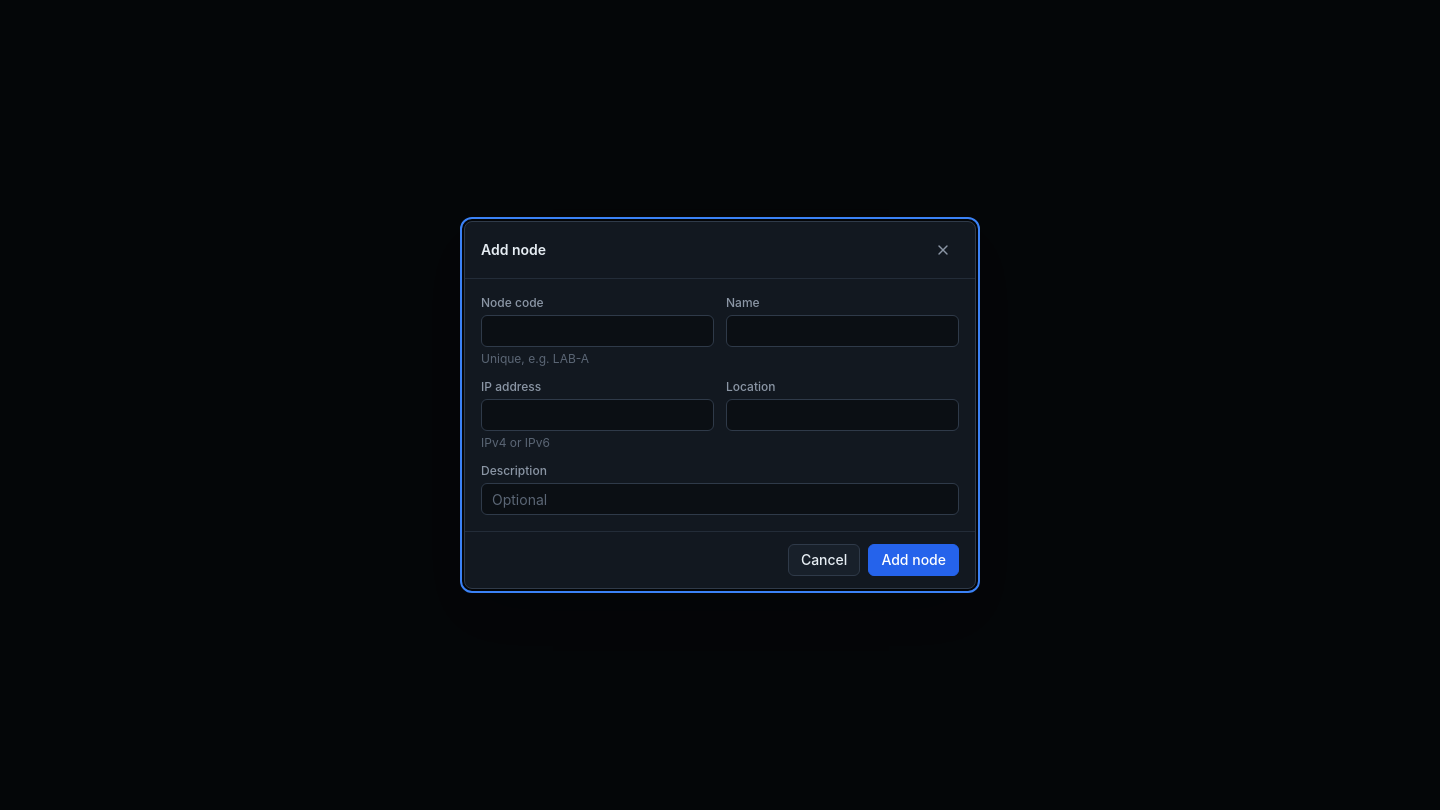
NodeFormModal › shows a readable message for a validation error from the server
Type "X" into the field labelled "Node code" at (598, 331), box top-left (481, 315), bottom-right (714, 347)
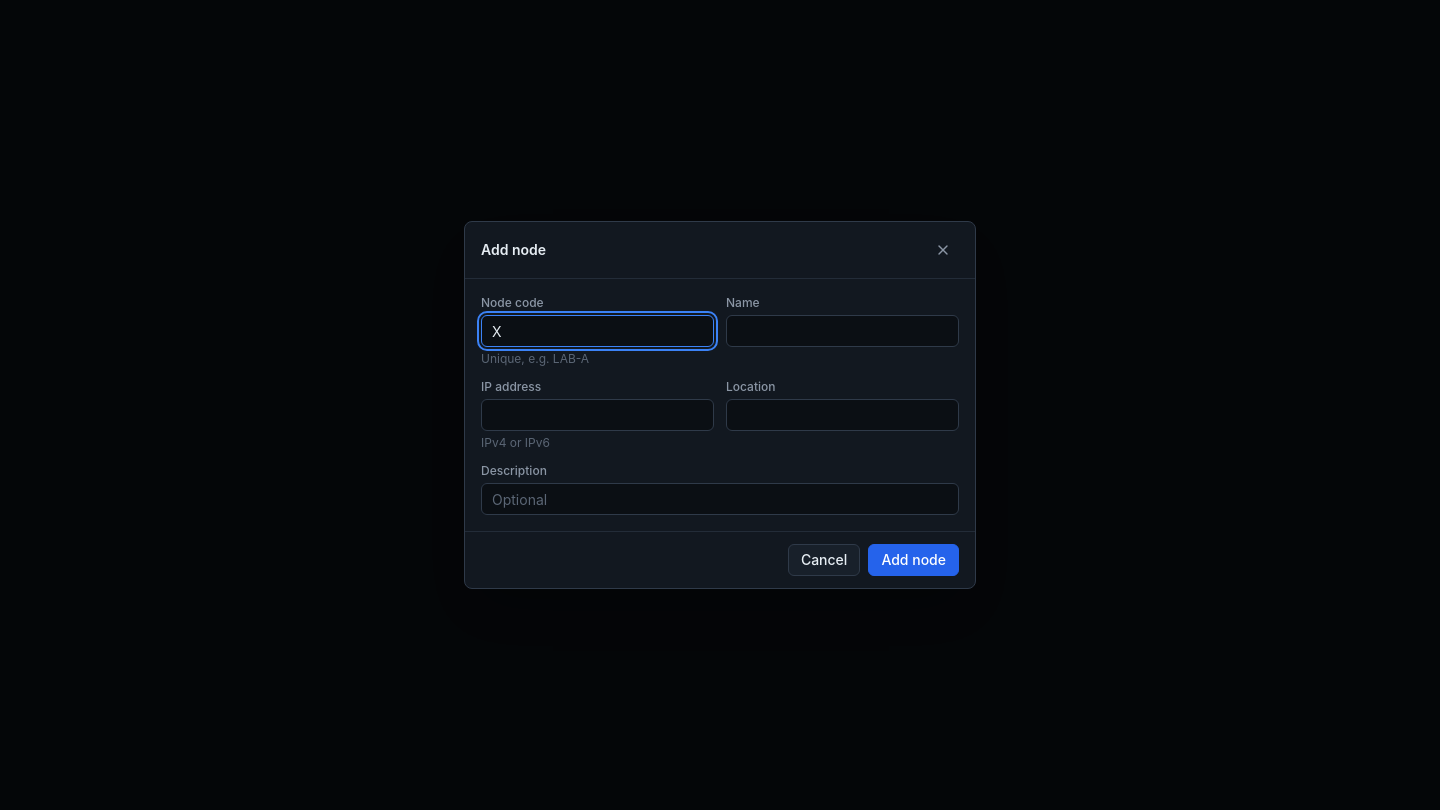
Type "X" into the field labelled "Name" at (842, 331), box top-left (726, 315), bottom-right (959, 347)
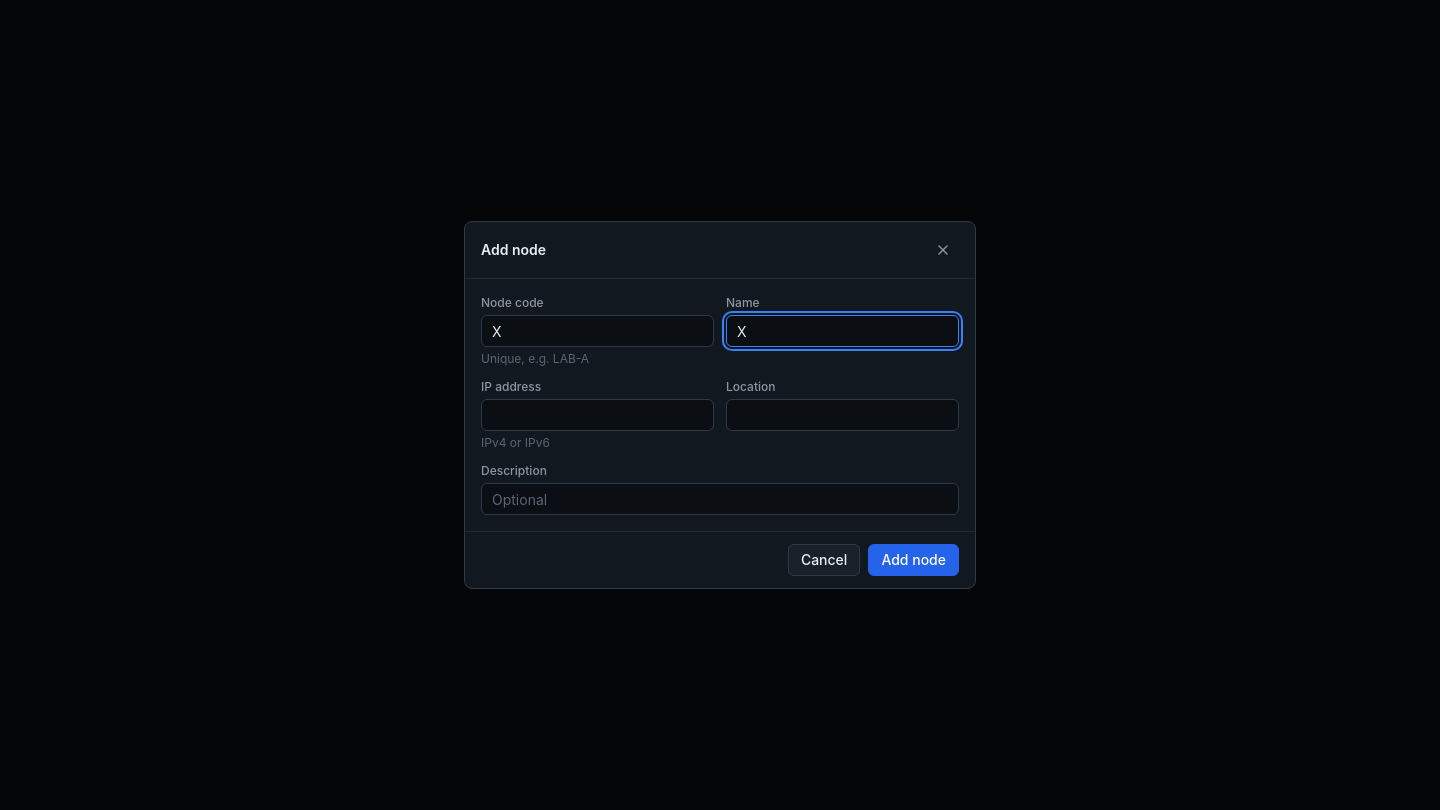
Type "nope" into the field labelled "IP address" at (598, 415), box top-left (481, 399), bottom-right (714, 431)
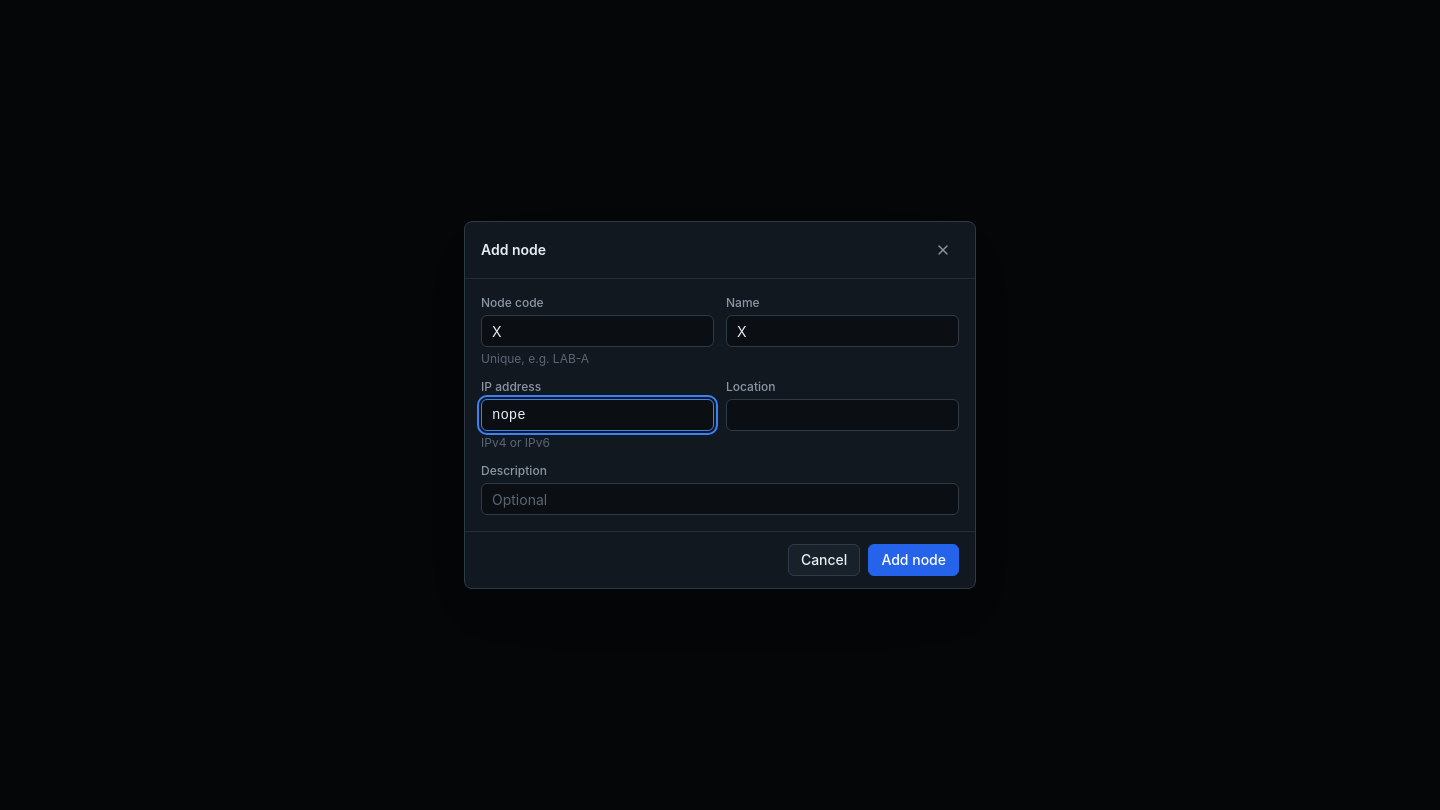
Type "X" into the field labelled "Location" at (842, 415), box top-left (726, 399), bottom-right (959, 431)
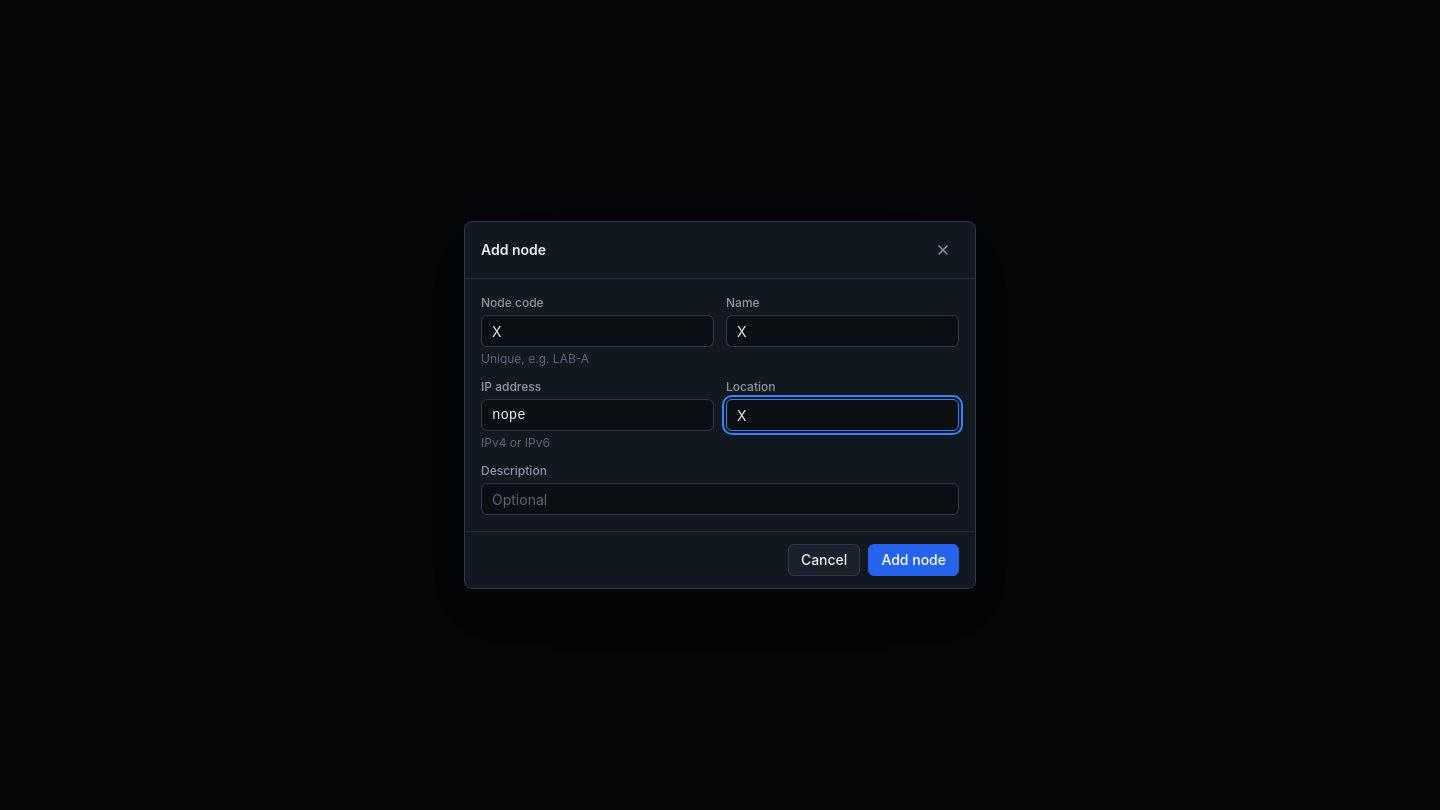
Click the button "Add node" at (914, 560), box top-left (868, 544), bottom-right (959, 576)
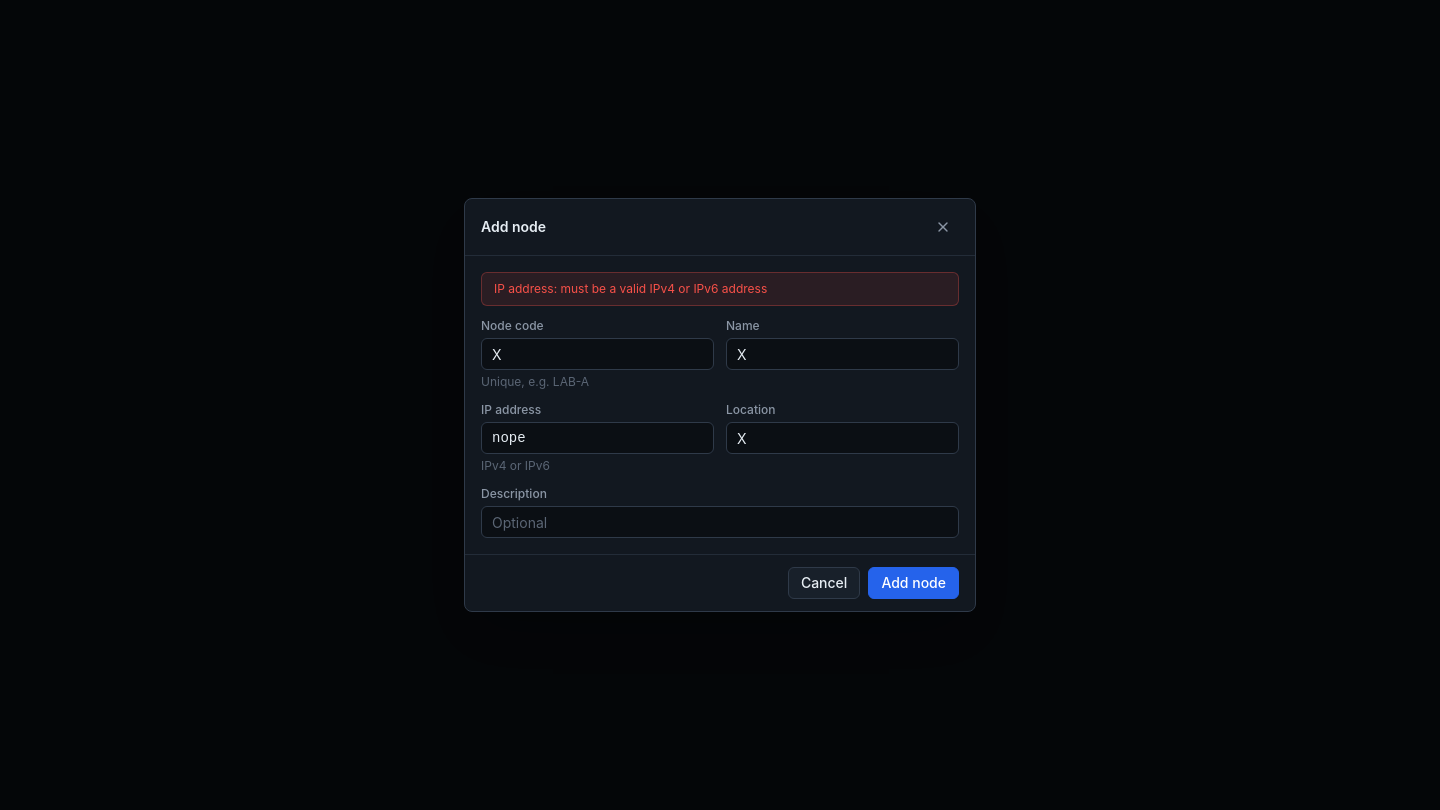
Now the message reads "IP address: must be a valid IPv4 or IPv6 address", box top-left (494, 281), bottom-right (767, 296)
